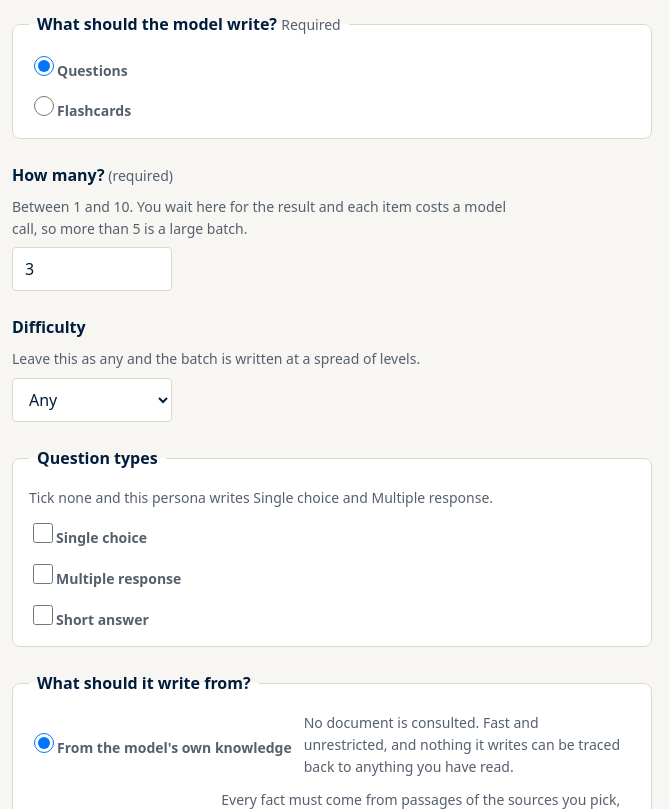
it: GenerationForm › what it offers › swaps to card controls when the owner switches kind, with nothing disabled
This screenshot has width=669, height=809.
Click the radio button labelled "Flashcards". click: (44,106)
box: [34, 96, 54, 116]
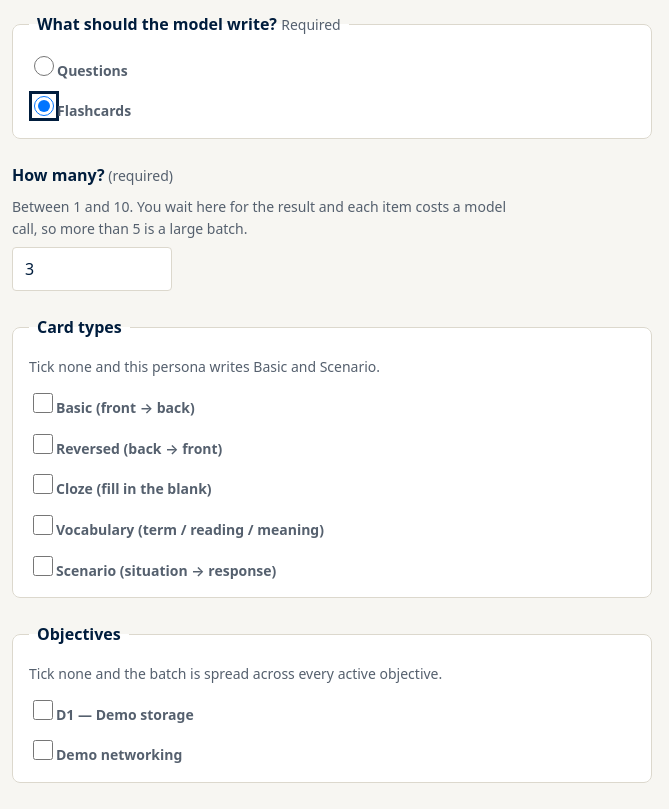
Expected: the checkbox labelled "Vocabulary (term / reading / meaning)" is shown, [33, 515, 53, 535]
Expected: the checkbox labelled "Cloze (fill in the blank)" is shown, [33, 474, 53, 494]
Expected: the label labelled "Difficulty" is gone
